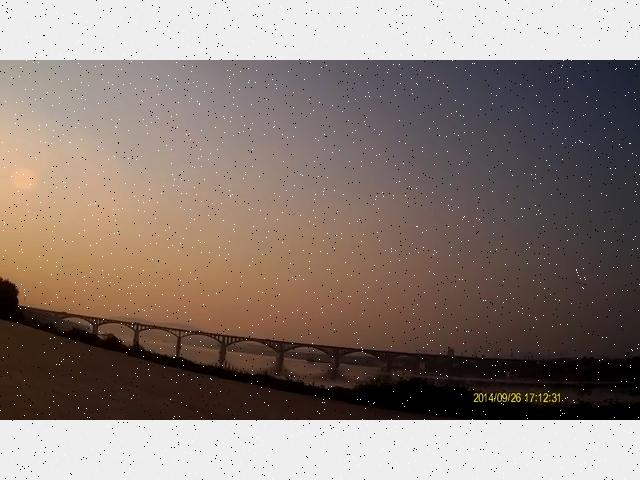Anti-Drone: (280, 208, 302, 220)
